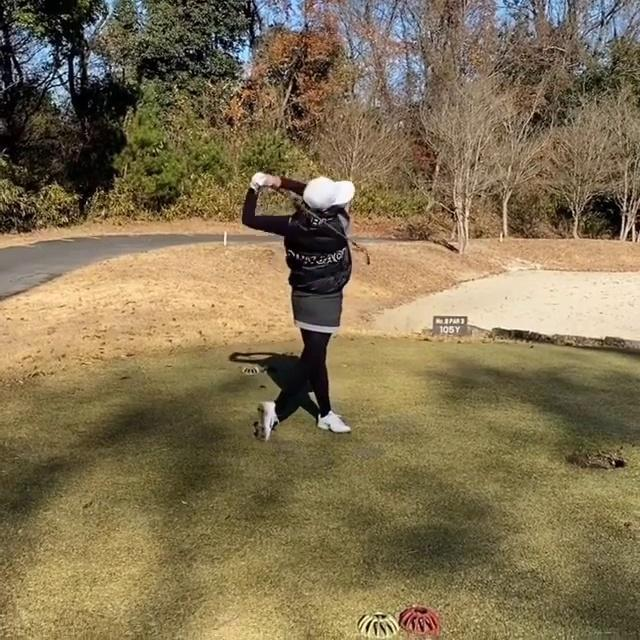ClubHead: (364, 252, 371, 266)
